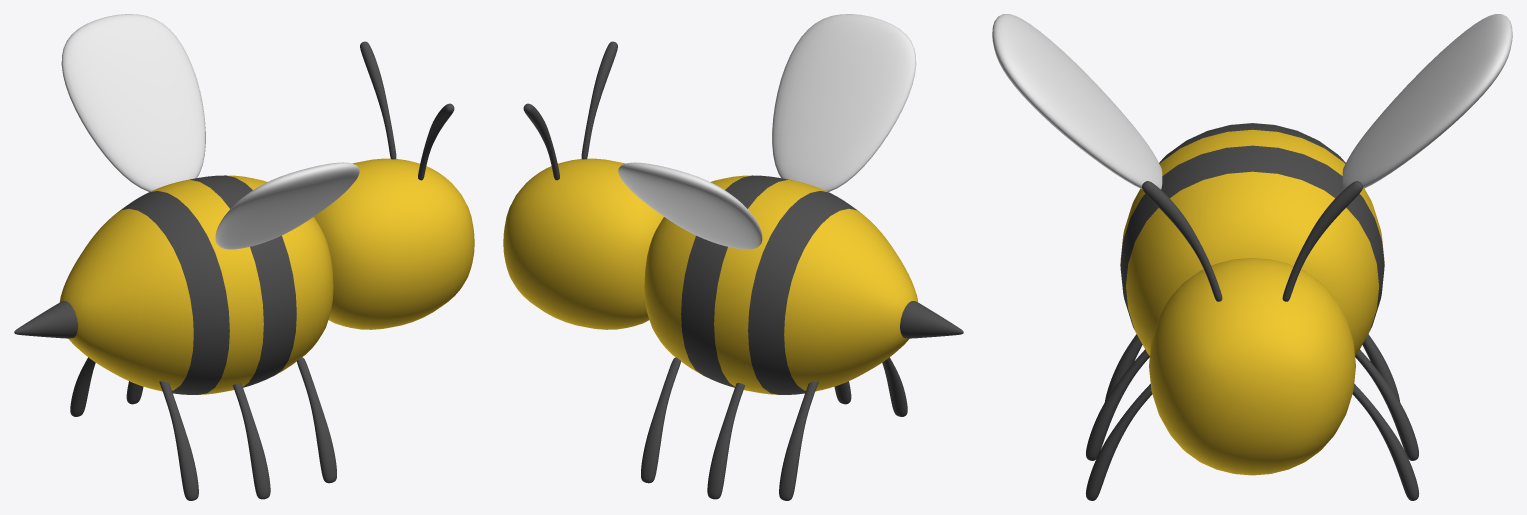
Rendered from PdV_Model_Bee_Color.fbx.
3 renders of one model, left to right at view 1: azimuth 30°, elevation 25°; view 2: azimuth 150°, elevation 25°; view 3: azimuth 270°, elevation 25°, orthographic. The views are drawn at different scales.
Parts seen in each view (by area): view 1: Bee; view 2: Bee; view 3: Bee.
Boxes of the visible parts, x1,y1,x2,y2 form: Bee: (14, 14, 474, 500); Bee: (503, 14, 963, 500); Bee: (992, 14, 1512, 500).
Size of the model in its own units: 88.41 by 72.24 by 67.12.
